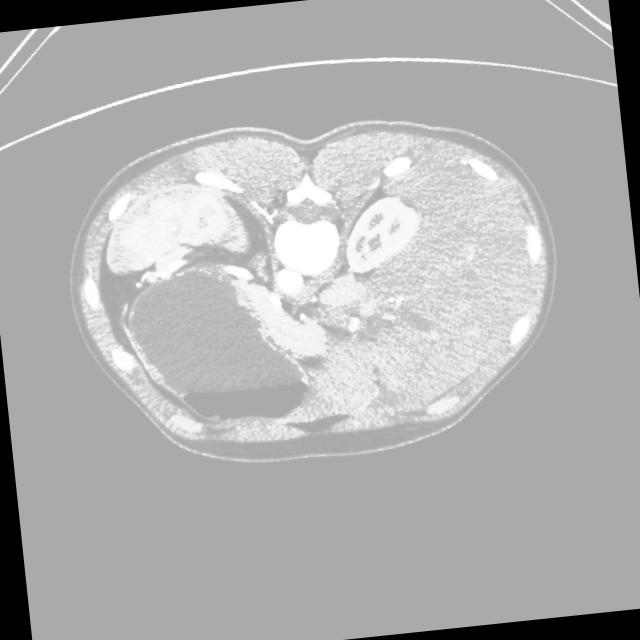NORMAL: (40, 81, 599, 513)
